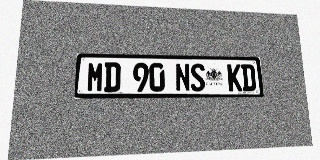0: (149, 63, 165, 92)
9: (133, 62, 149, 92)
D: (104, 62, 121, 92), (241, 64, 256, 91)
K: (227, 64, 242, 91)
M: (86, 62, 104, 92)
N: (175, 63, 190, 92)
S: (190, 63, 205, 91)
